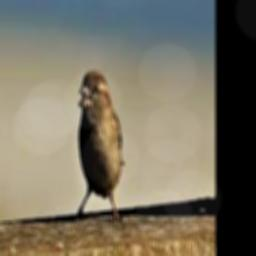Sparrow: (75, 69, 124, 220)
